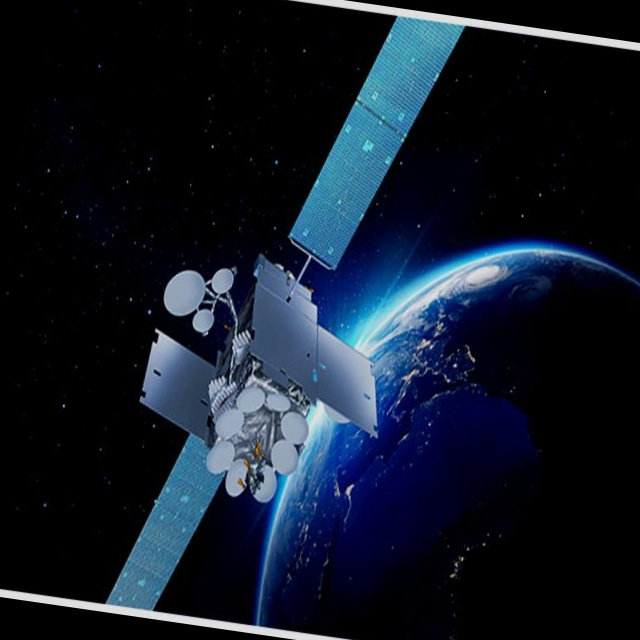medium_debris: (79, 0, 464, 640)
